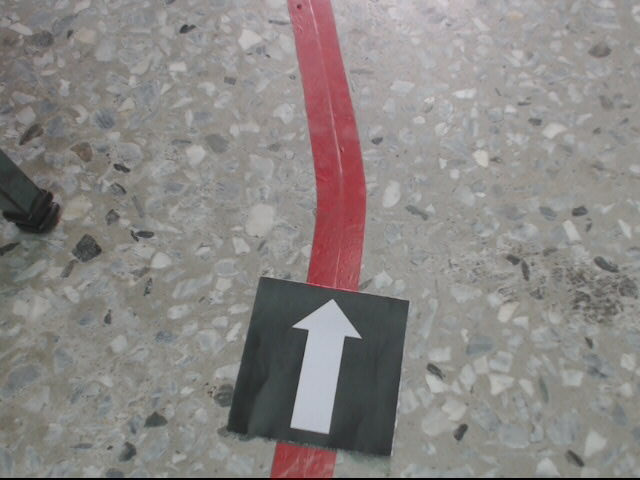straight: (229, 276, 412, 457)
